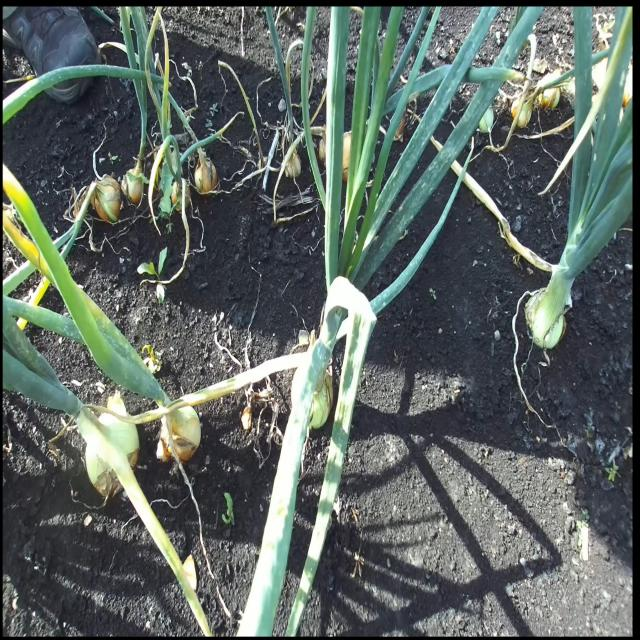onion: (76, 404, 140, 498), (156, 401, 201, 465), (308, 368, 333, 431), (92, 173, 122, 224), (120, 157, 148, 206), (194, 147, 218, 195), (511, 91, 533, 129), (478, 106, 494, 133)
